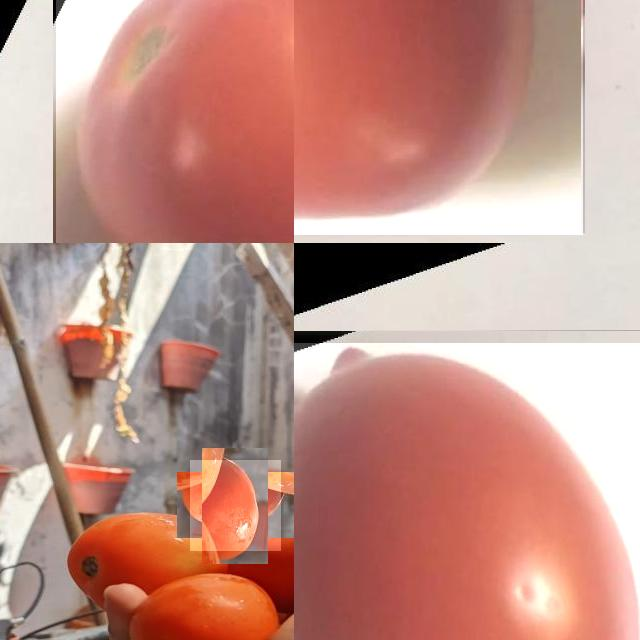0: (58, 508, 238, 599), (125, 567, 279, 640), (190, 460, 281, 551), (239, 511, 294, 599)
Fresh Tomato: (294, 343, 640, 640), (294, 0, 583, 235), (56, 0, 294, 243)
